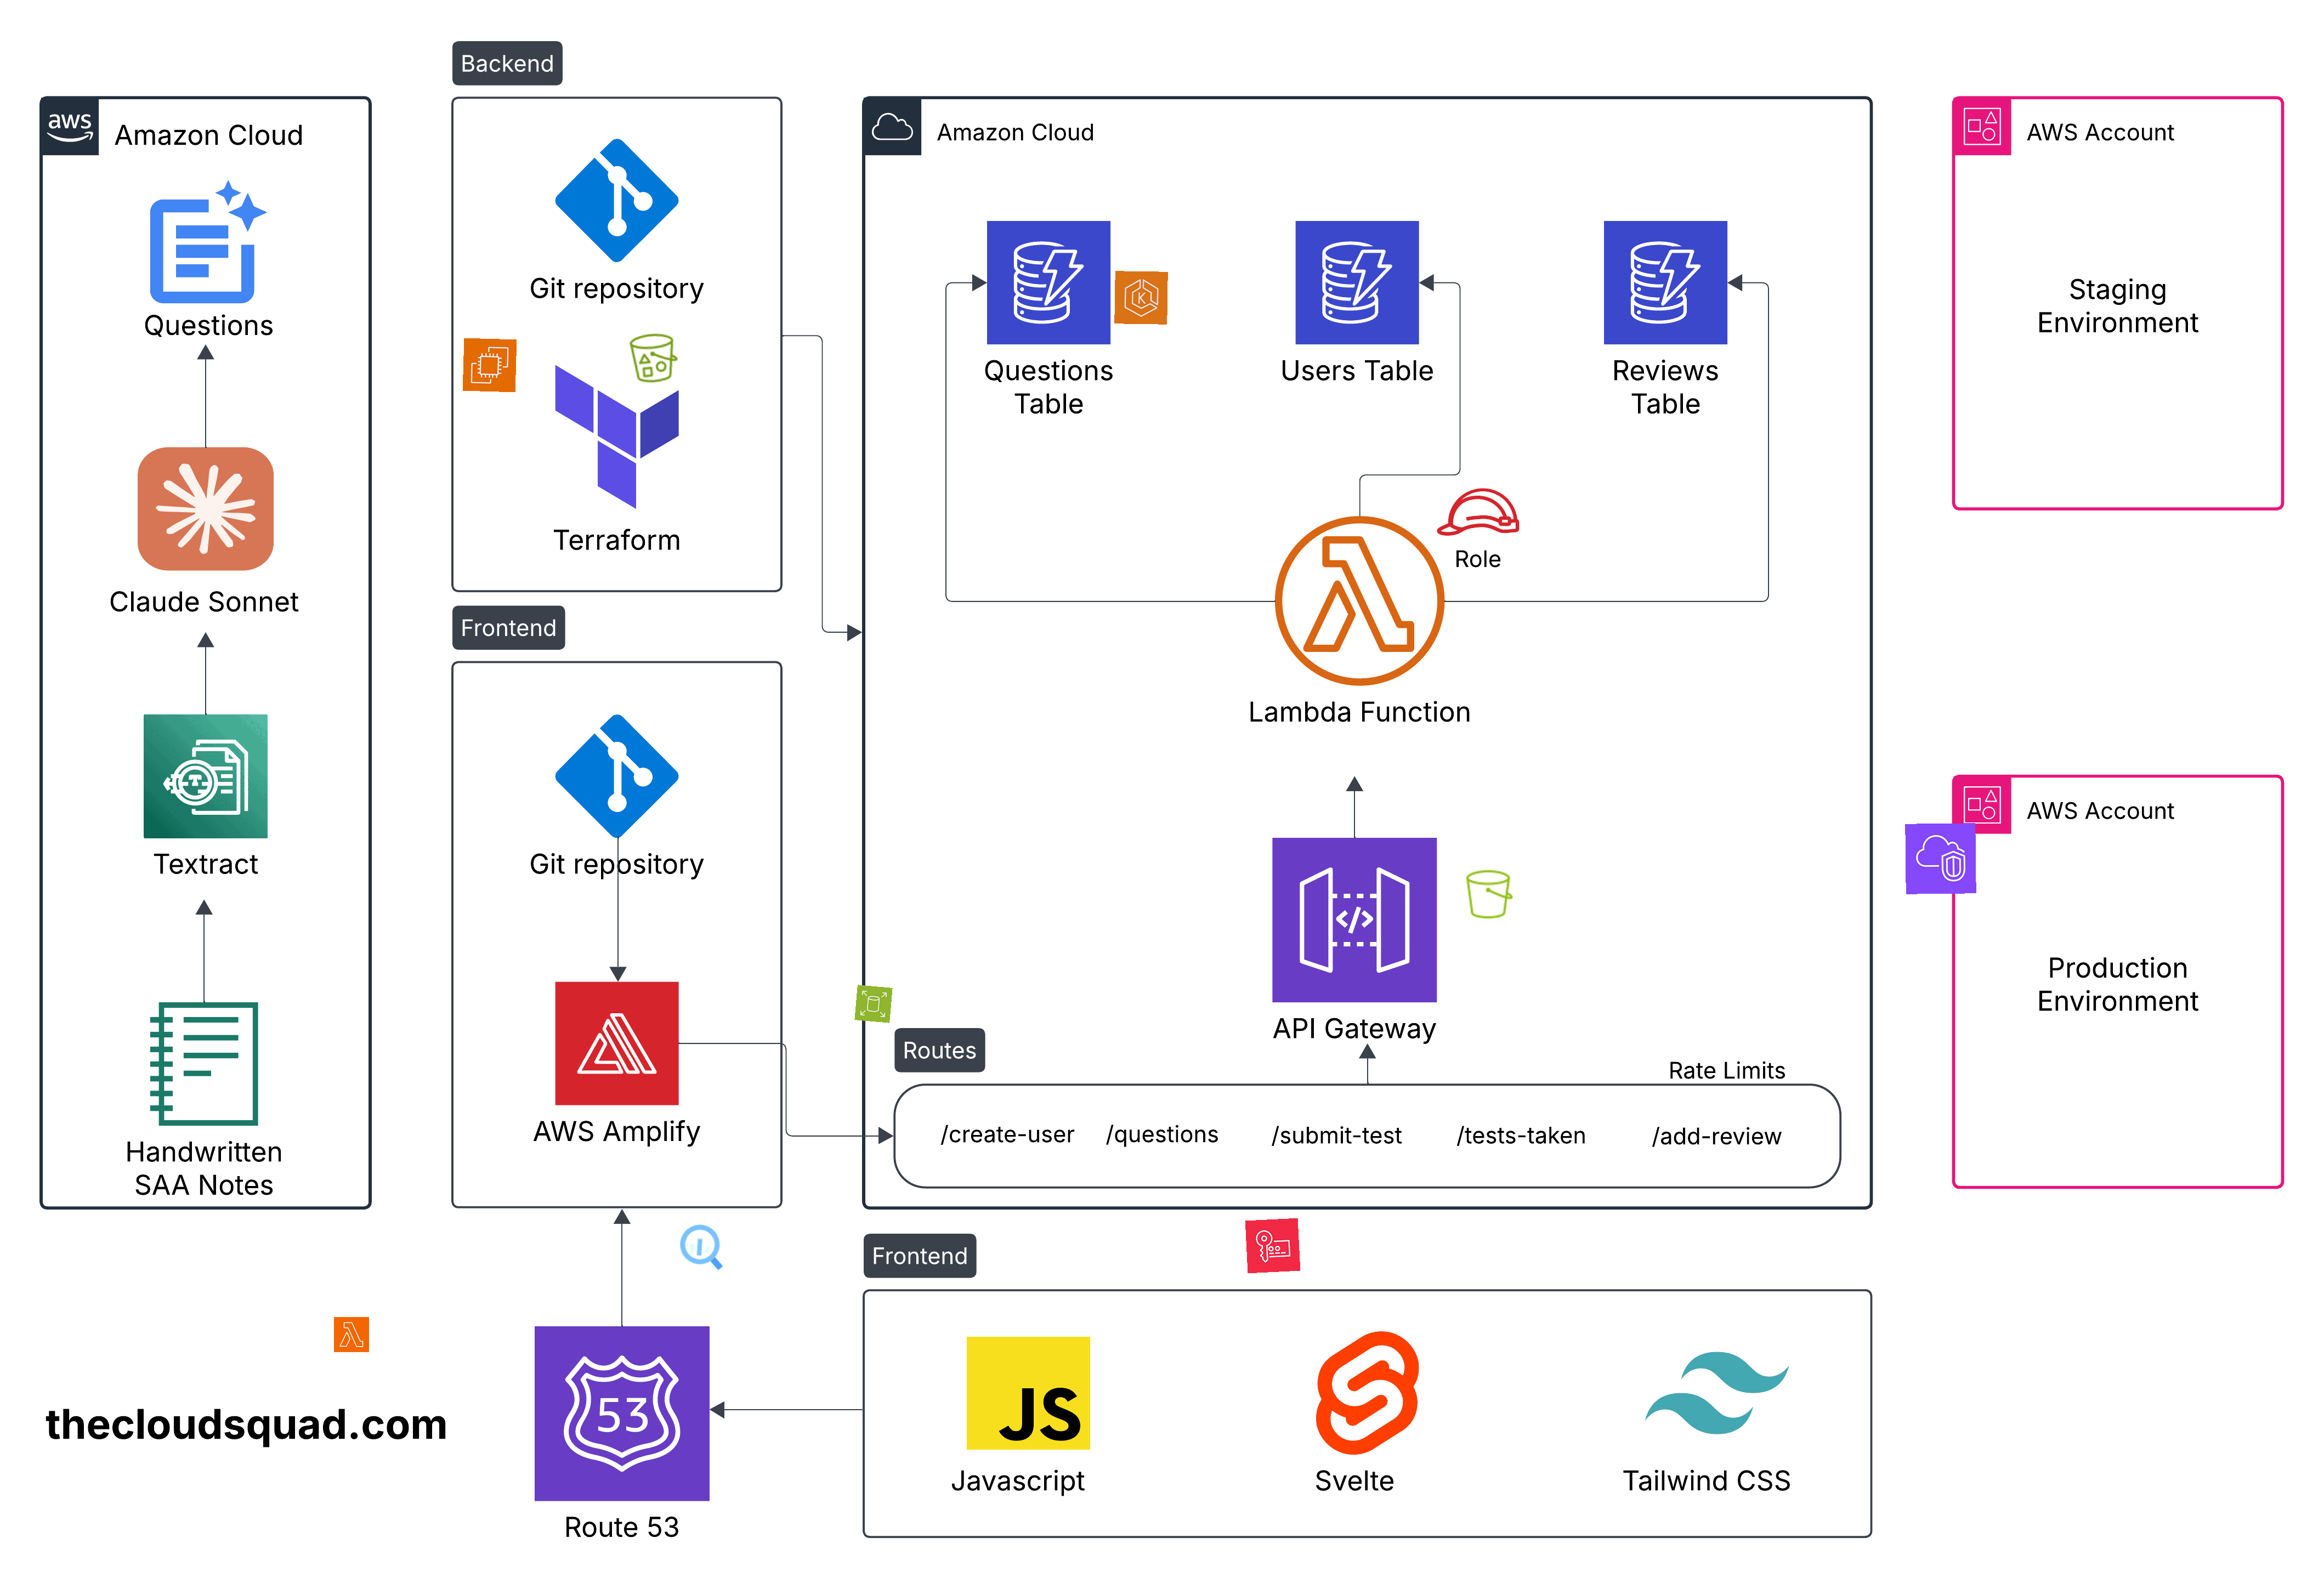aws_amazon_ec2: (463, 338, 518, 393)
aws_amazon_elastic_block_store: (854, 984, 893, 1023)
aws_amazon_elastic_kubernetes_service: (1114, 271, 1167, 324)
aws_amazon_virtual_private_cloud: (1905, 822, 1977, 895)
aws_key_management_service: (1245, 1217, 1301, 1273)
aws_lambda: (333, 1316, 370, 1353)
aws_simple_storage_service_bucket: (1463, 868, 1516, 921)
aws_simple_storage_service_bucket_with_objects: (625, 329, 683, 386)
gcp_bigquery: (673, 1219, 731, 1275)
